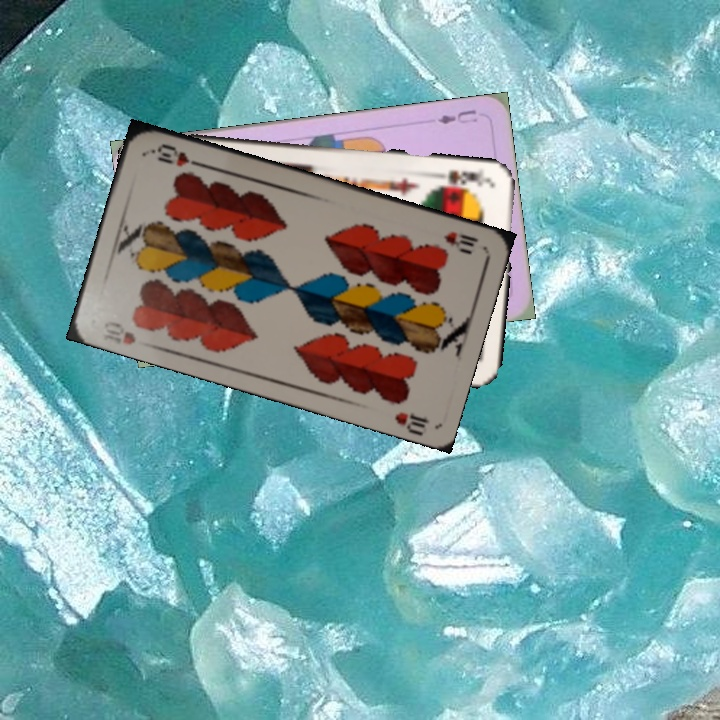EU: (433, 106, 479, 127)
H10: (99, 316, 138, 347), (440, 227, 481, 256)
SK: (432, 165, 492, 191)
